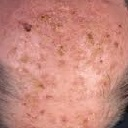Actinic: (18, 11, 66, 40), (83, 28, 117, 52)
